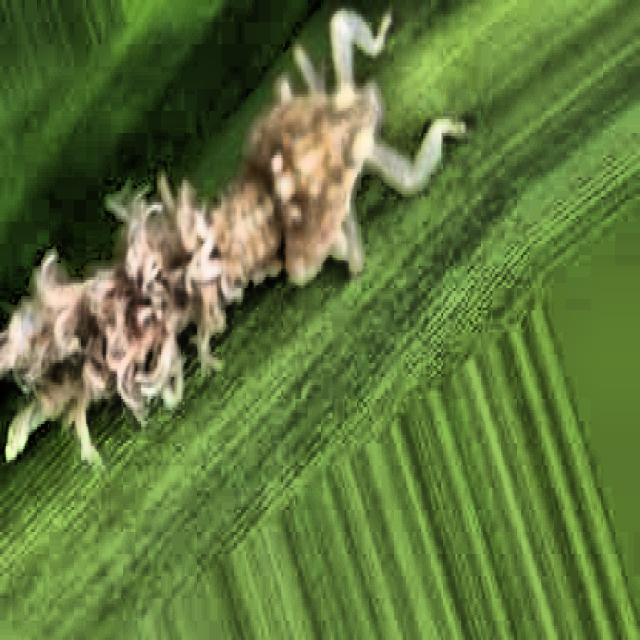Pyrilla-perpusilla: (6, 6, 510, 495)
